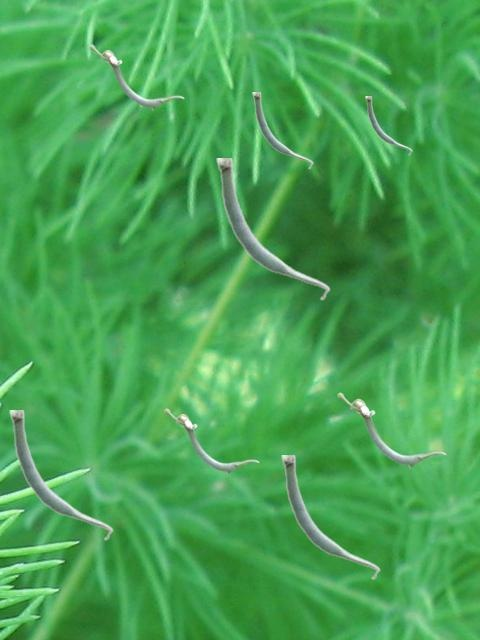french_bean: (216, 158, 329, 300), (9, 410, 112, 540), (281, 455, 379, 579), (337, 392, 445, 467), (89, 44, 183, 109), (164, 408, 258, 473), (252, 92, 312, 168), (365, 96, 411, 154)
